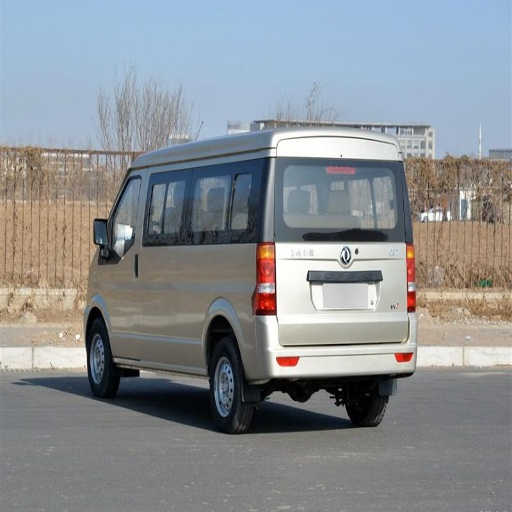back_bumper: (249, 312, 413, 381)
back_glass: (287, 159, 379, 225), (153, 163, 256, 221)
trunk: (154, 229, 406, 364)
